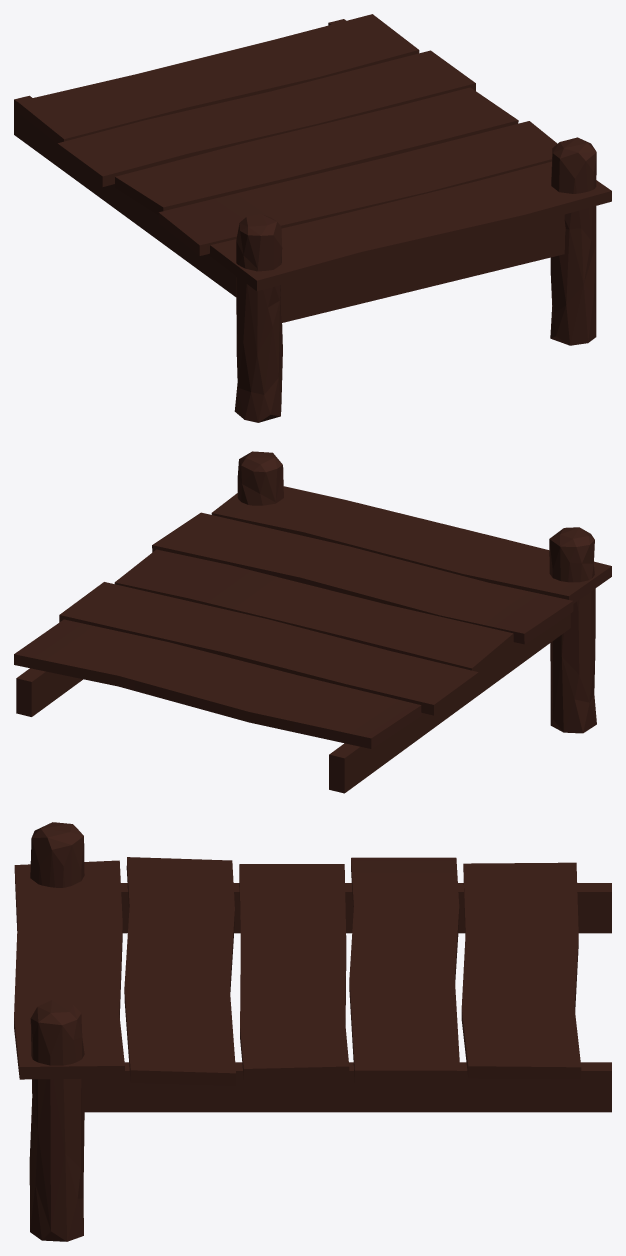
File: port_wooden_bridge_b.FBX
3 renders of one model, top to bottom at view 1: azimuth 30°, elevation 25°; view 2: azimuth 150°, elevation 25°; view 3: azimuth 270°, elevation 25°, orthographic. The views are drawn at different scales.
Visible parts, largest first — view 1: port_wooden_bridge_b; view 2: port_wooden_bridge_b; view 3: port_wooden_bridge_b.
Boxes of the visible parts, x1,y1,x2,y2 form: port_wooden_bridge_b: (14,14,611,422); port_wooden_bridge_b: (14,451,611,793); port_wooden_bridge_b: (14,822,611,1241).
Bounding box in the file's own units: 369 × 180 × 433.
